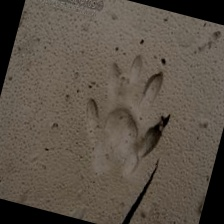raccoon: (62, 38, 193, 192)
